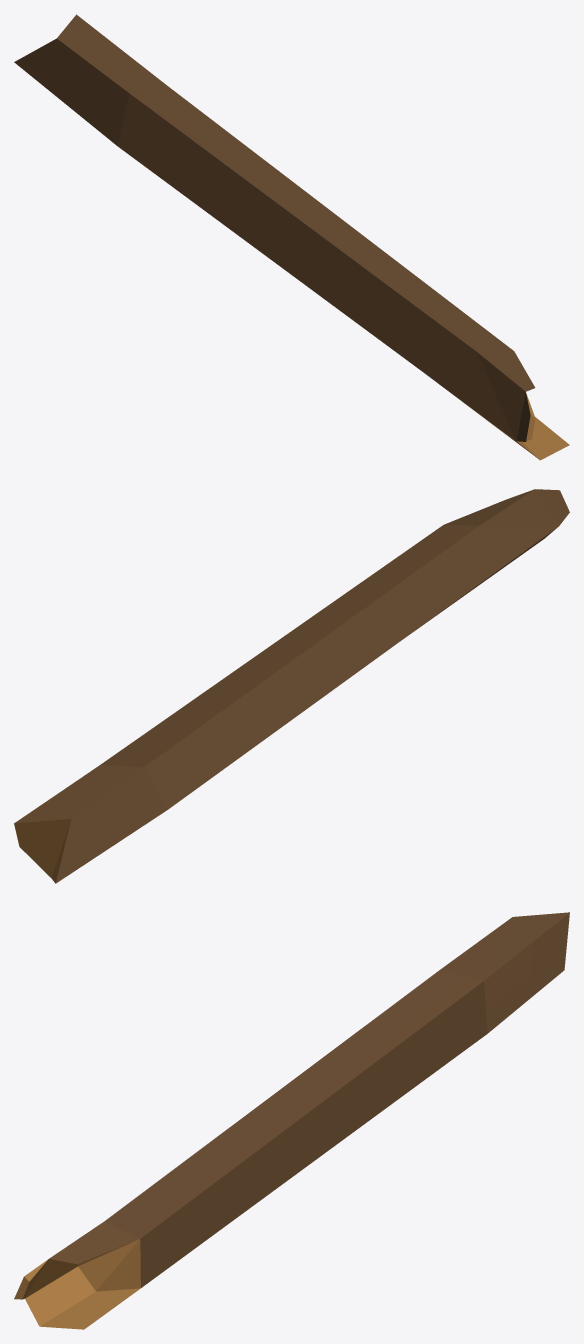
File: nature-tree-dead-log-b.glb
The picture shows the model from 3 angles, top to bottom: view 1: azimuth 30°, elevation 25°; view 2: azimuth 150°, elevation 25°; view 3: azimuth 330°, elevation 25°; orthographic projection. The views are drawn at different scales.
Parts seen in each view (by area): view 1: tree-dead-log-b; view 2: tree-dead-log-b; view 3: tree-dead-log-b.
Part boxes in pixels (x1=…): tree-dead-log-b: x1=14, y1=14, x2=569, y2=460; tree-dead-log-b: x1=14, y1=489, x2=569, y2=883; tree-dead-log-b: x1=14, y1=912, x2=569, y2=1329.
Bounding box in the file's own units: 0.4286 × 0.3751 × 5.14.
